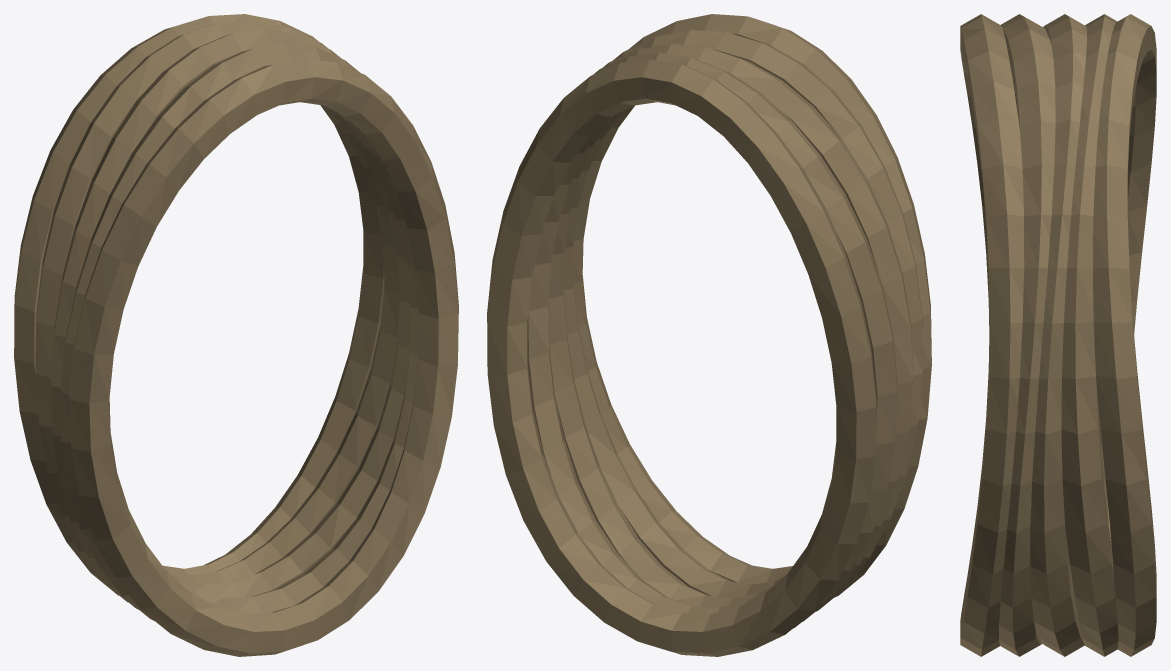
File: Rope.glb
The picture shows the model from 3 angles, left to right: view 1: azimuth 30°, elevation 25°; view 2: azimuth 150°, elevation 25°; view 3: azimuth 270°, elevation 25°; orthographic projection. The views are drawn at different scales.
Visible parts, largest first — view 1: Rope; view 2: Rope; view 3: Rope.
Part boxes in pixels (box(x1,y1,x2,y2)): Rope: box(14, 14, 458, 656); Rope: box(487, 14, 931, 656); Rope: box(960, 14, 1156, 656).
Bounding box in the file's own units: 0.223 × 0.323 × 0.0938.
